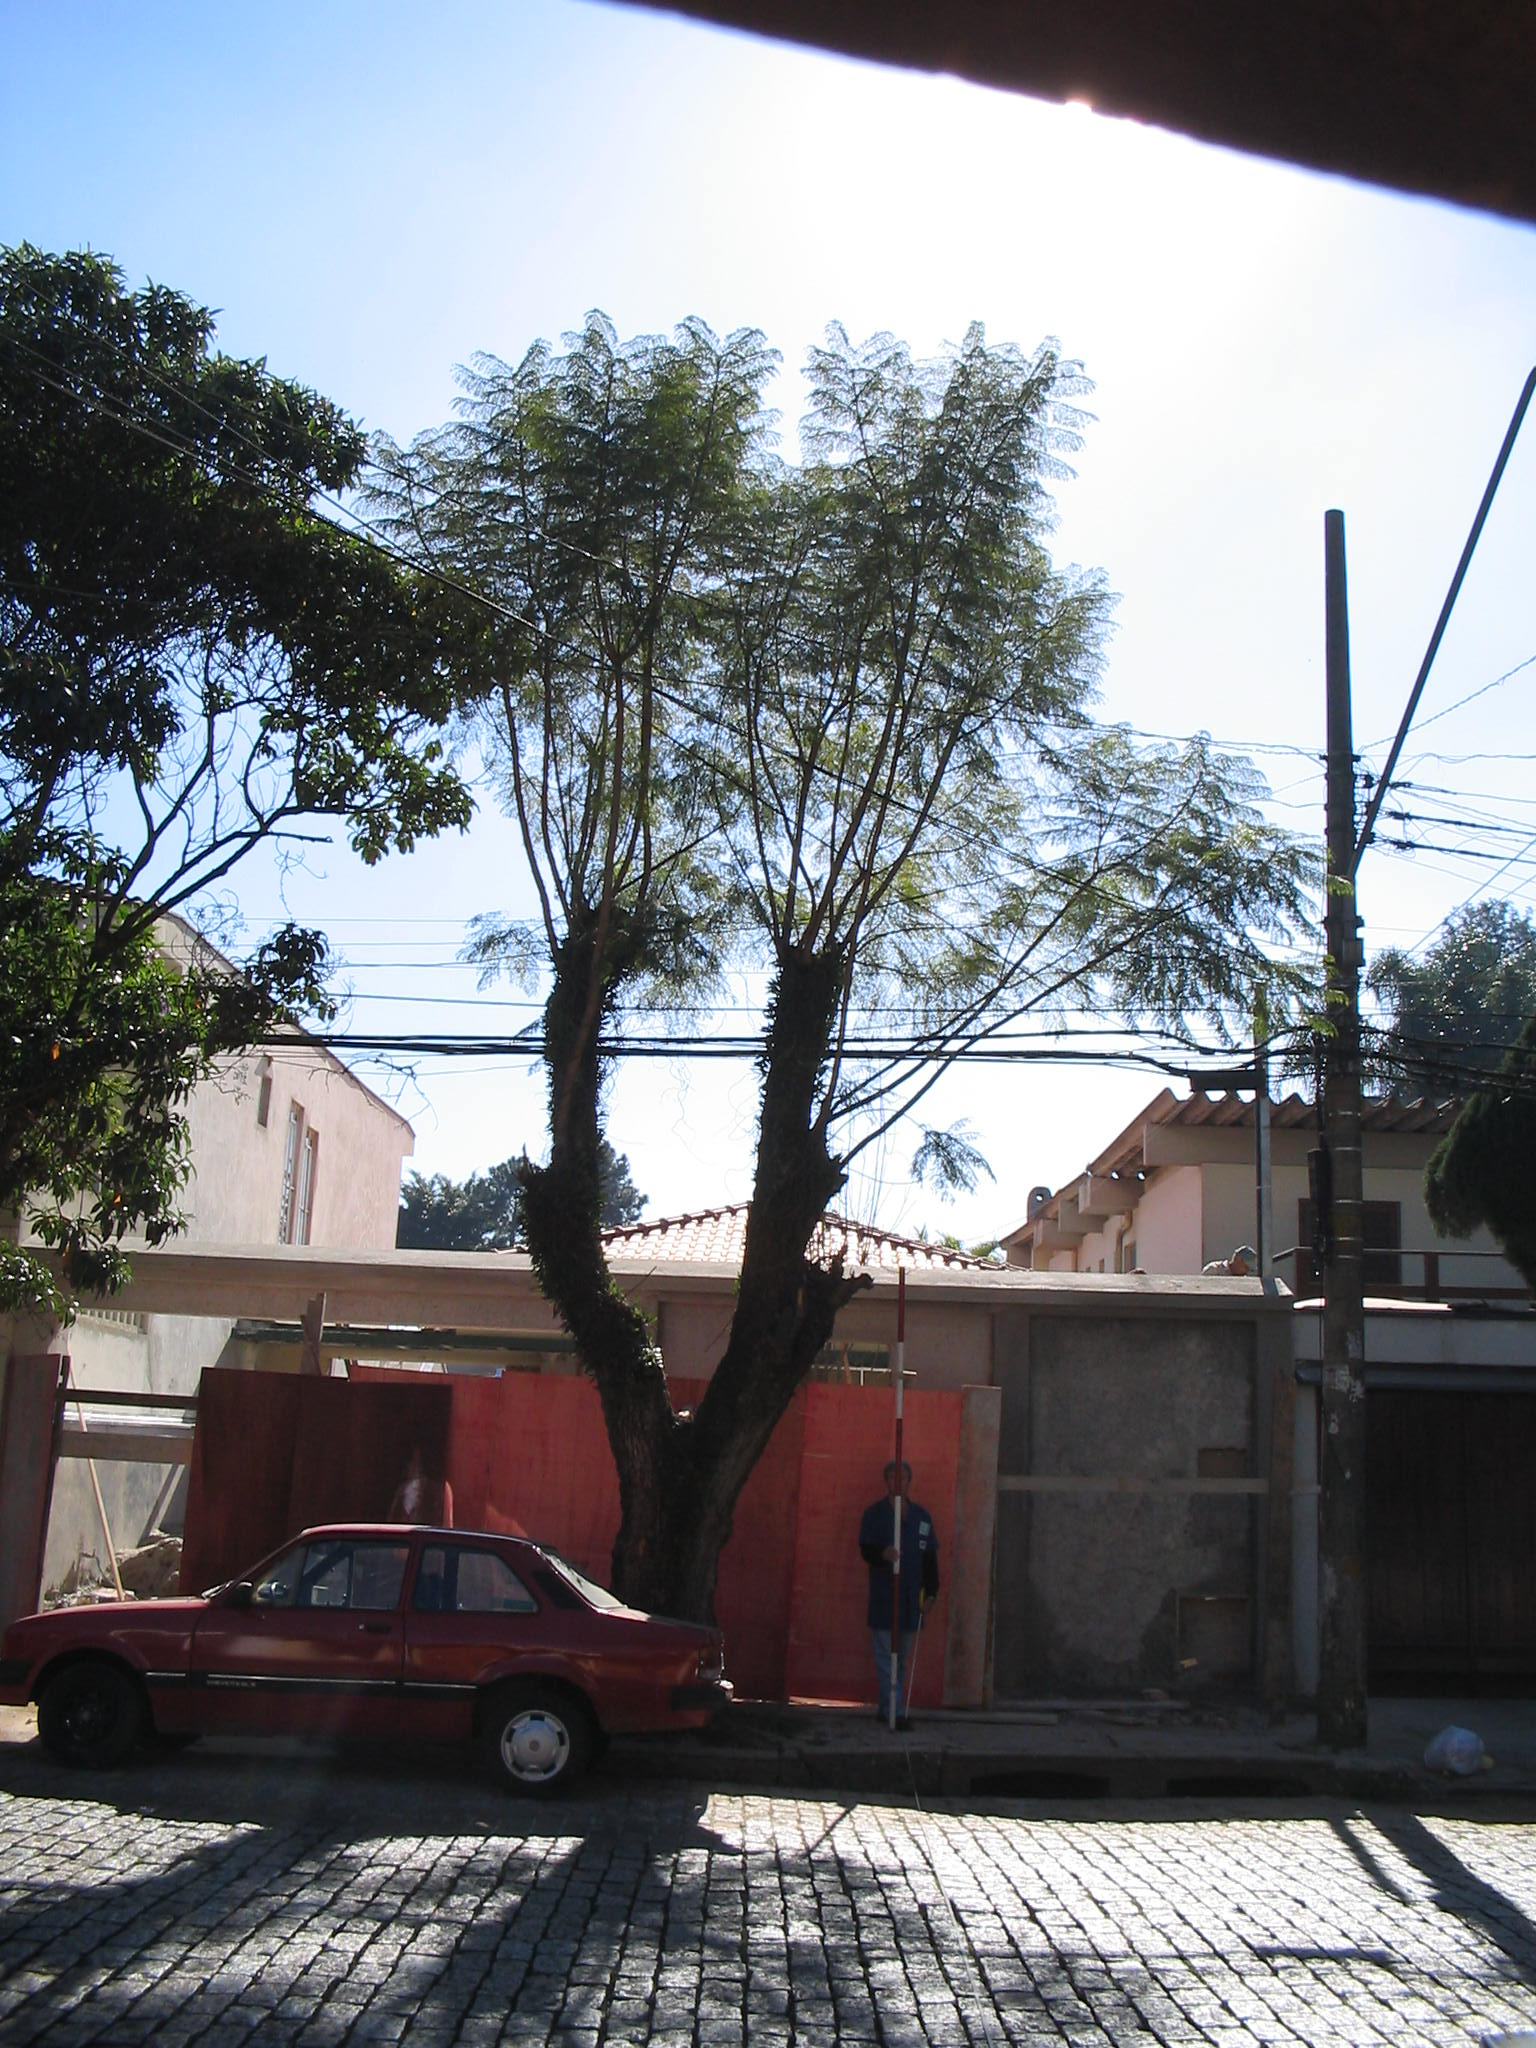crown: (389, 326, 1346, 1140)
stem: (565, 1424, 781, 1729)
stick: (865, 1268, 923, 1730)
tree: (386, 321, 1352, 1729)
